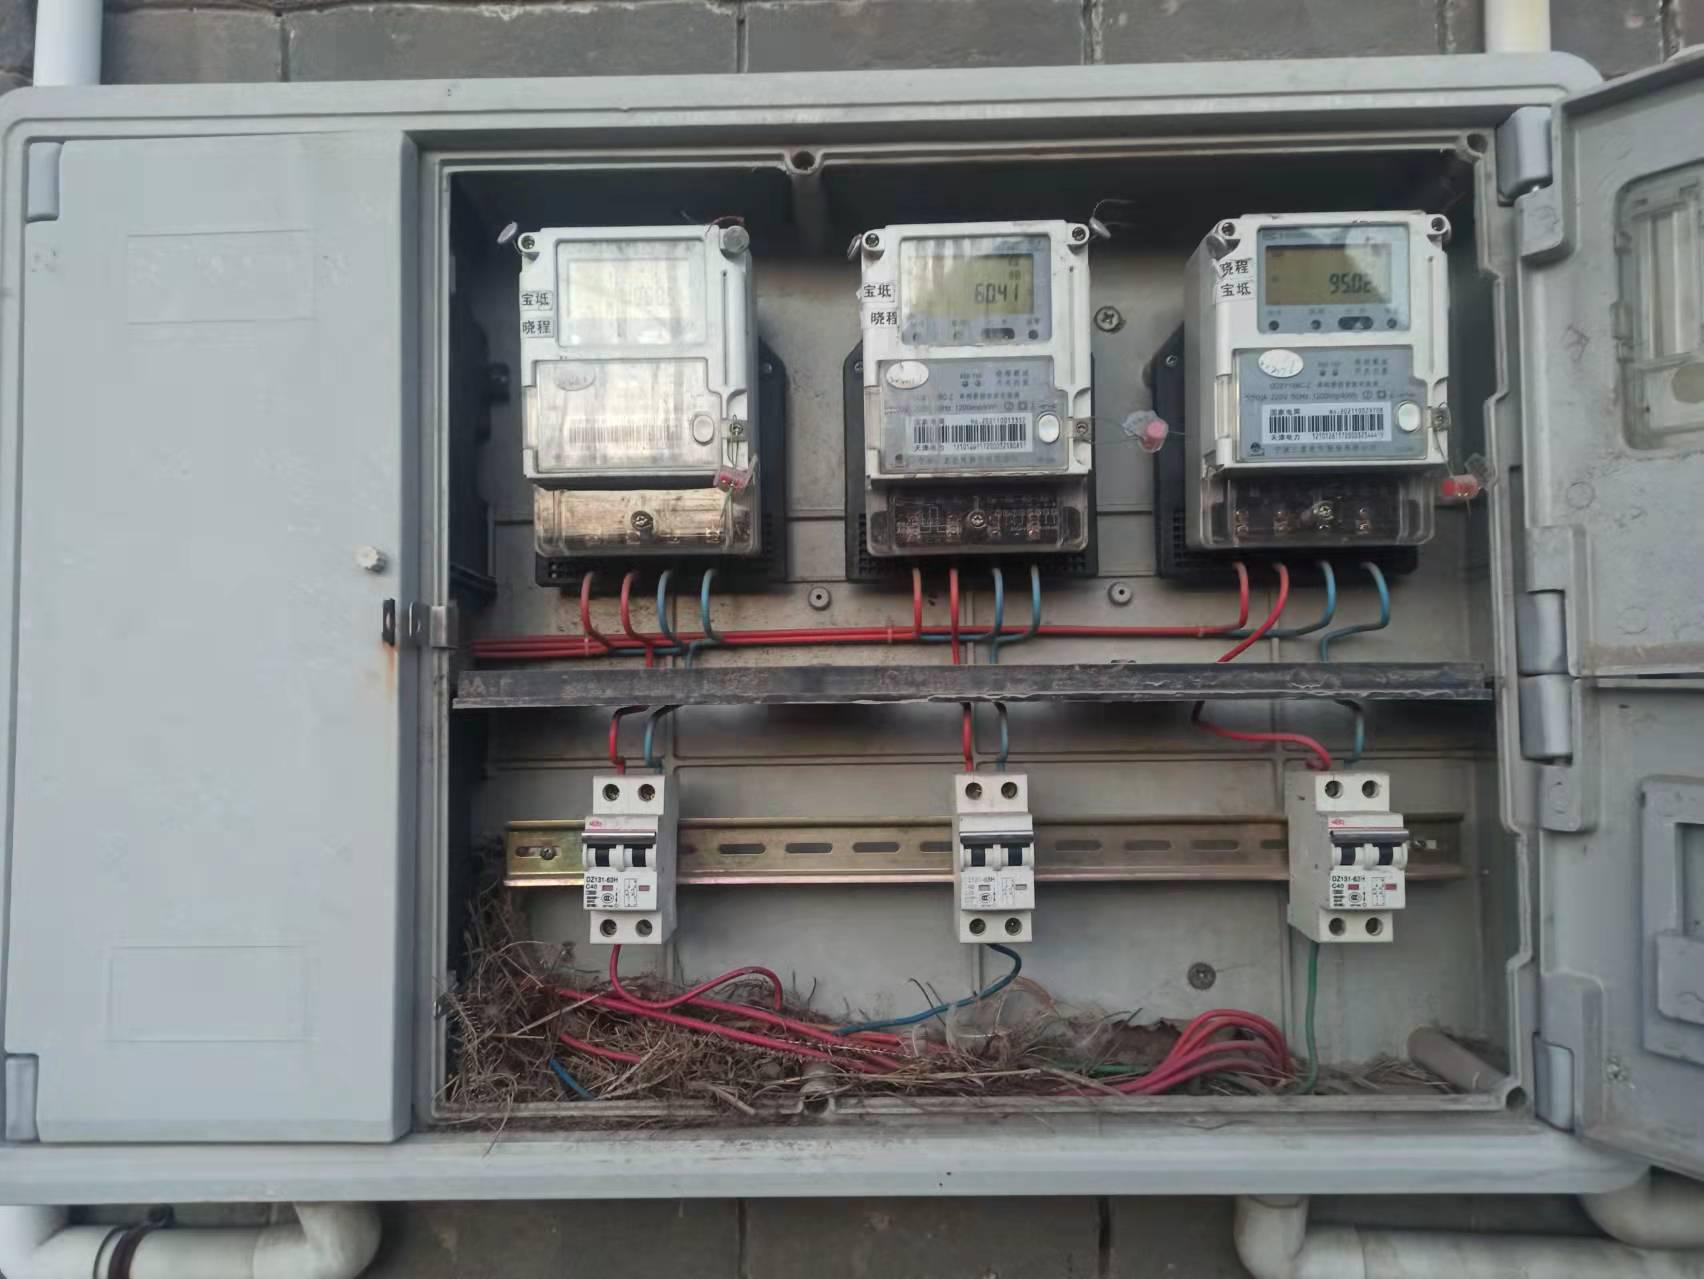digital: (861, 222, 1090, 476), (513, 224, 744, 476), (1214, 214, 1448, 461)
